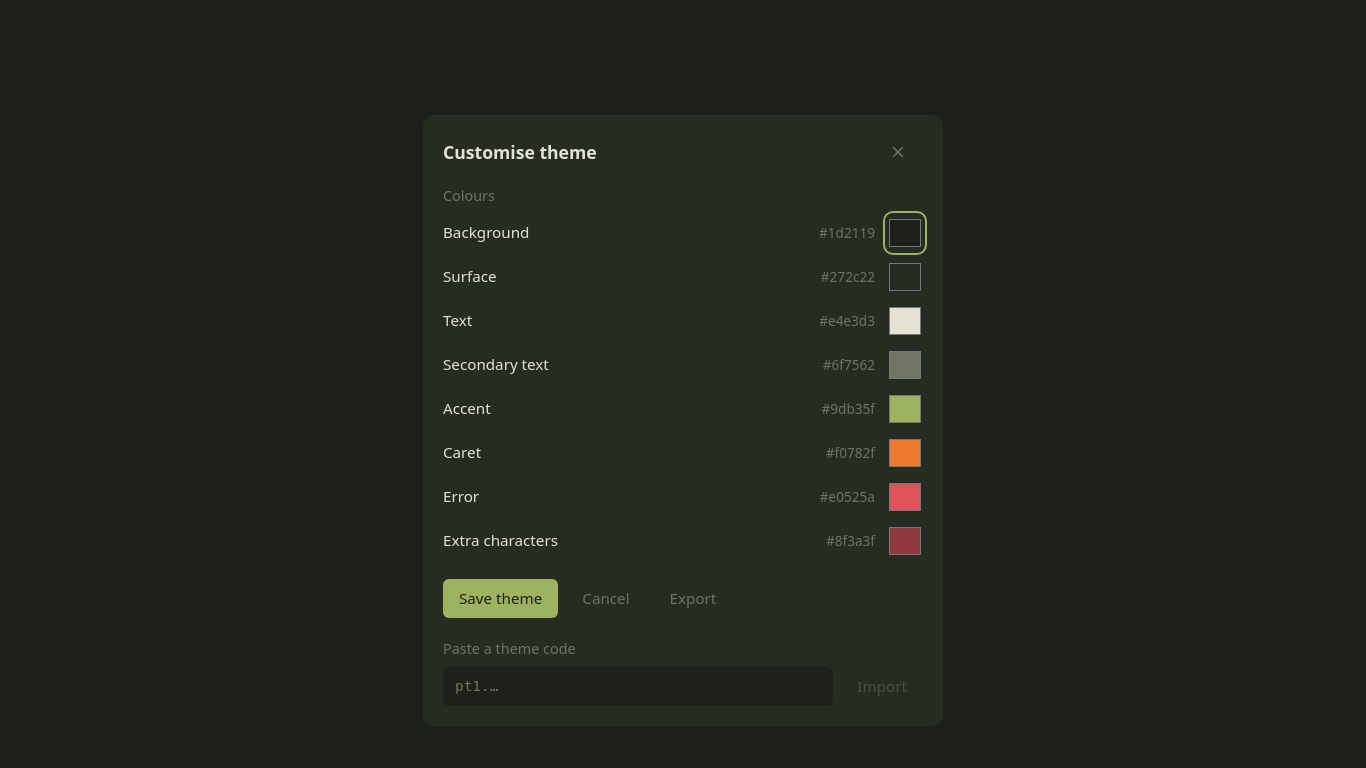
Test case: ThemeEditor › warns when the text or secondary text is hard to read on the background
The width and height of the screenshot is (1366, 768).
Type "#2a2a2a" into the colour field labelled "Text".
click(905, 321); type("#2a2a2a")  # box [887,303,923,339]
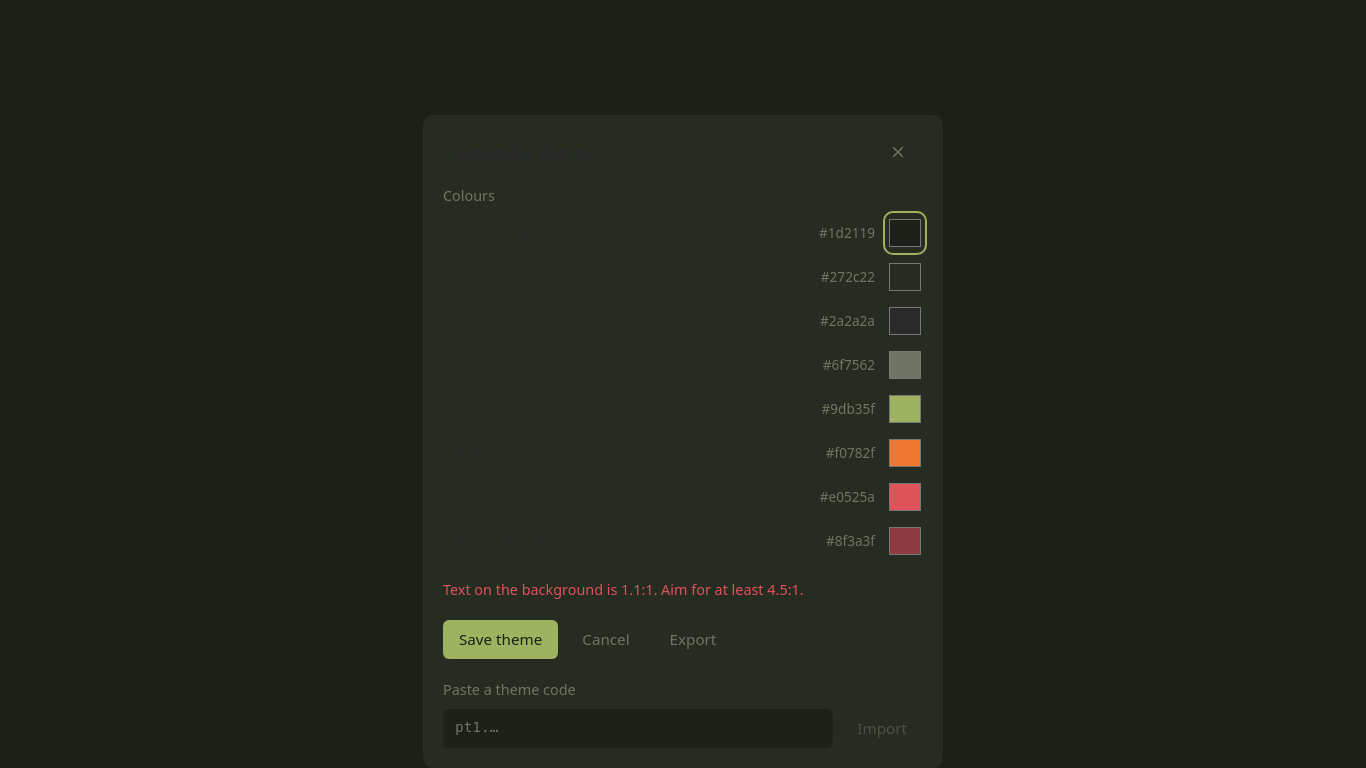
Expected: the message reads "Text on the background is 1.1:1. Aim for at least 4.5:1.", [443,580,804,599]
